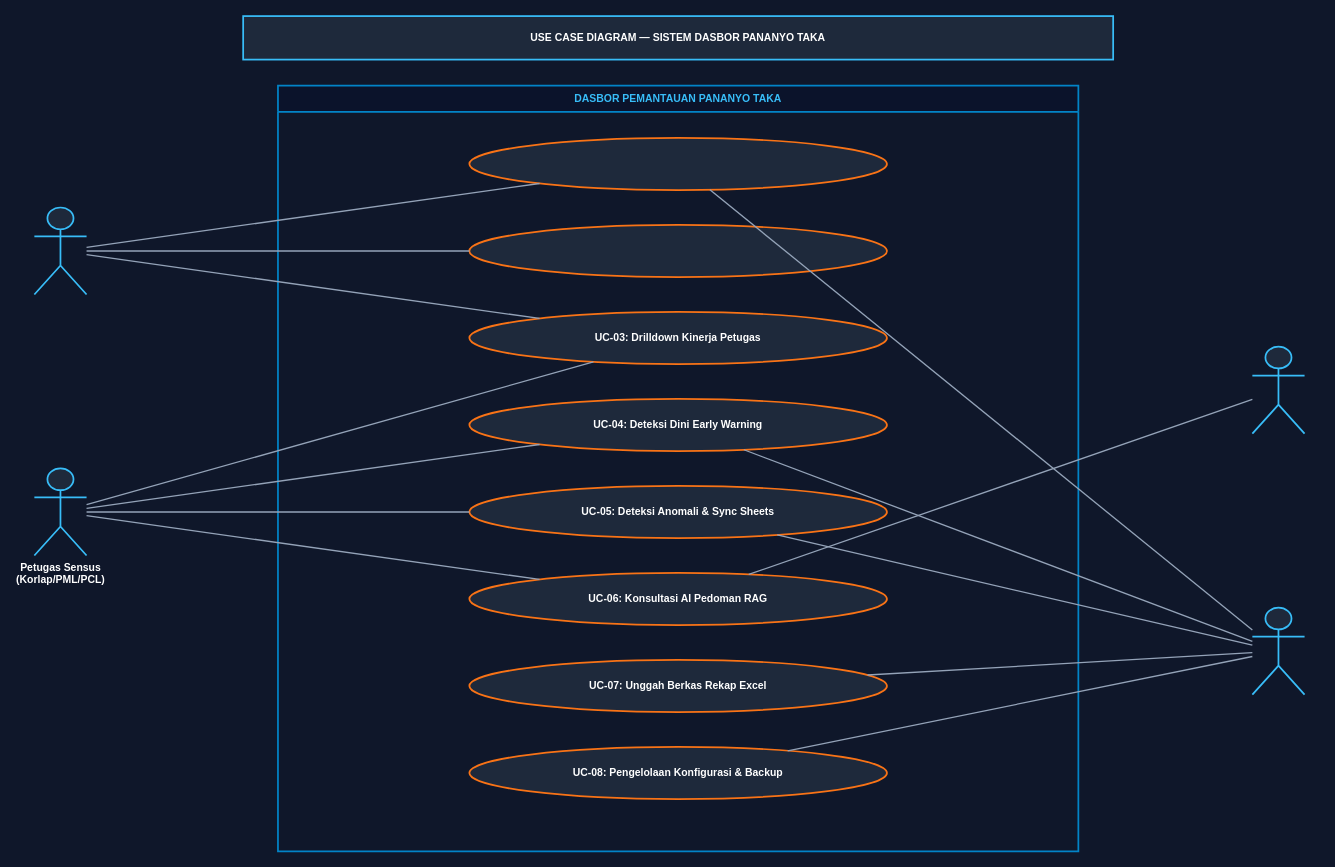
Some shapes in this 1335 by 867 pixel diagram are drawn without their labels. Here are the shapes that lost their labels. From the top down, the centre of each, then its label:
At [677,164]: "UC-01: Akses Portal Induk & Overview".
At [60,250]: "Pengguna Publik / Pimpinan BPS".
At [677,251]: "UC-02: Pemantauan Peta Spasial GIS".
At [1278,389]: "External LLM API Provider".
At [1278,650]: "Administrator TI (BPS PPU)".
